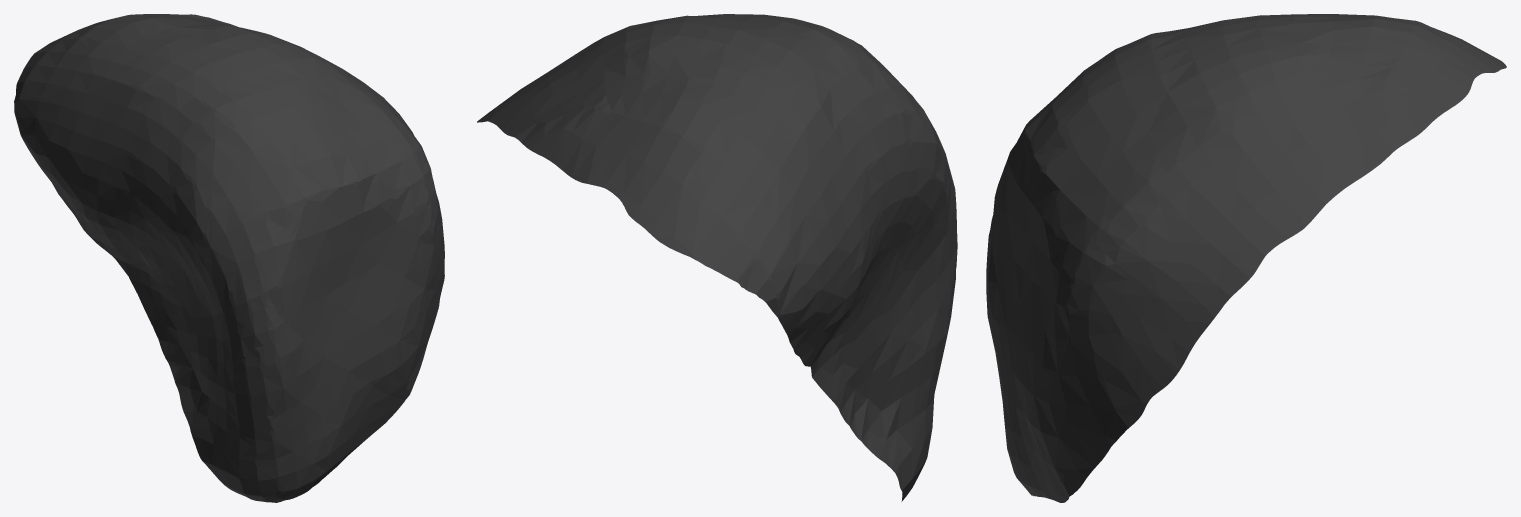
Rendered from bone_olecranon_tuberosity.glb.
3 views of the same model, side by side, from view 1: azimuth 30°, elevation 25°; view 2: azimuth 150°, elevation 25°; view 3: azimuth 270°, elevation 25° (orthographic). The views are drawn at different scales.
Parts seen in each view (by area): view 1: bone_olecranon_tuberosity; view 2: bone_olecranon_tuberosity; view 3: bone_olecranon_tuberosity.
Part boxes in pixels (box(x1,y1,x2,y2)): bone_olecranon_tuberosity: box(14, 14, 444, 502); bone_olecranon_tuberosity: box(477, 14, 957, 501); bone_olecranon_tuberosity: box(986, 14, 1506, 502).
Size of the model in its own units: 0.0619 by 0.0734 by 0.0734.
1 material, 1 textured.
